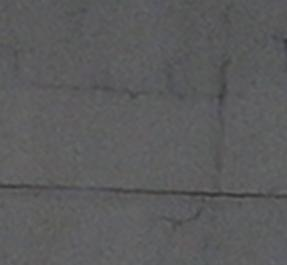termicas: (19, 27, 269, 180)
